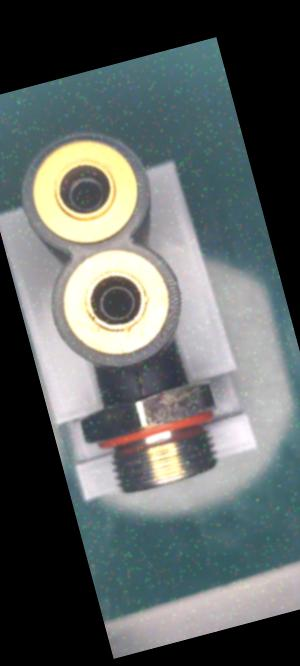craze: (128, 361, 152, 399)
